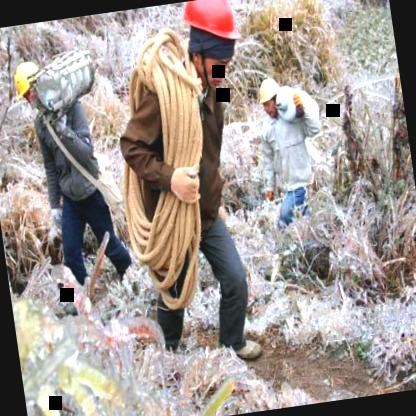helmet: (175, 0, 249, 87), (9, 54, 55, 118), (256, 74, 284, 116)
